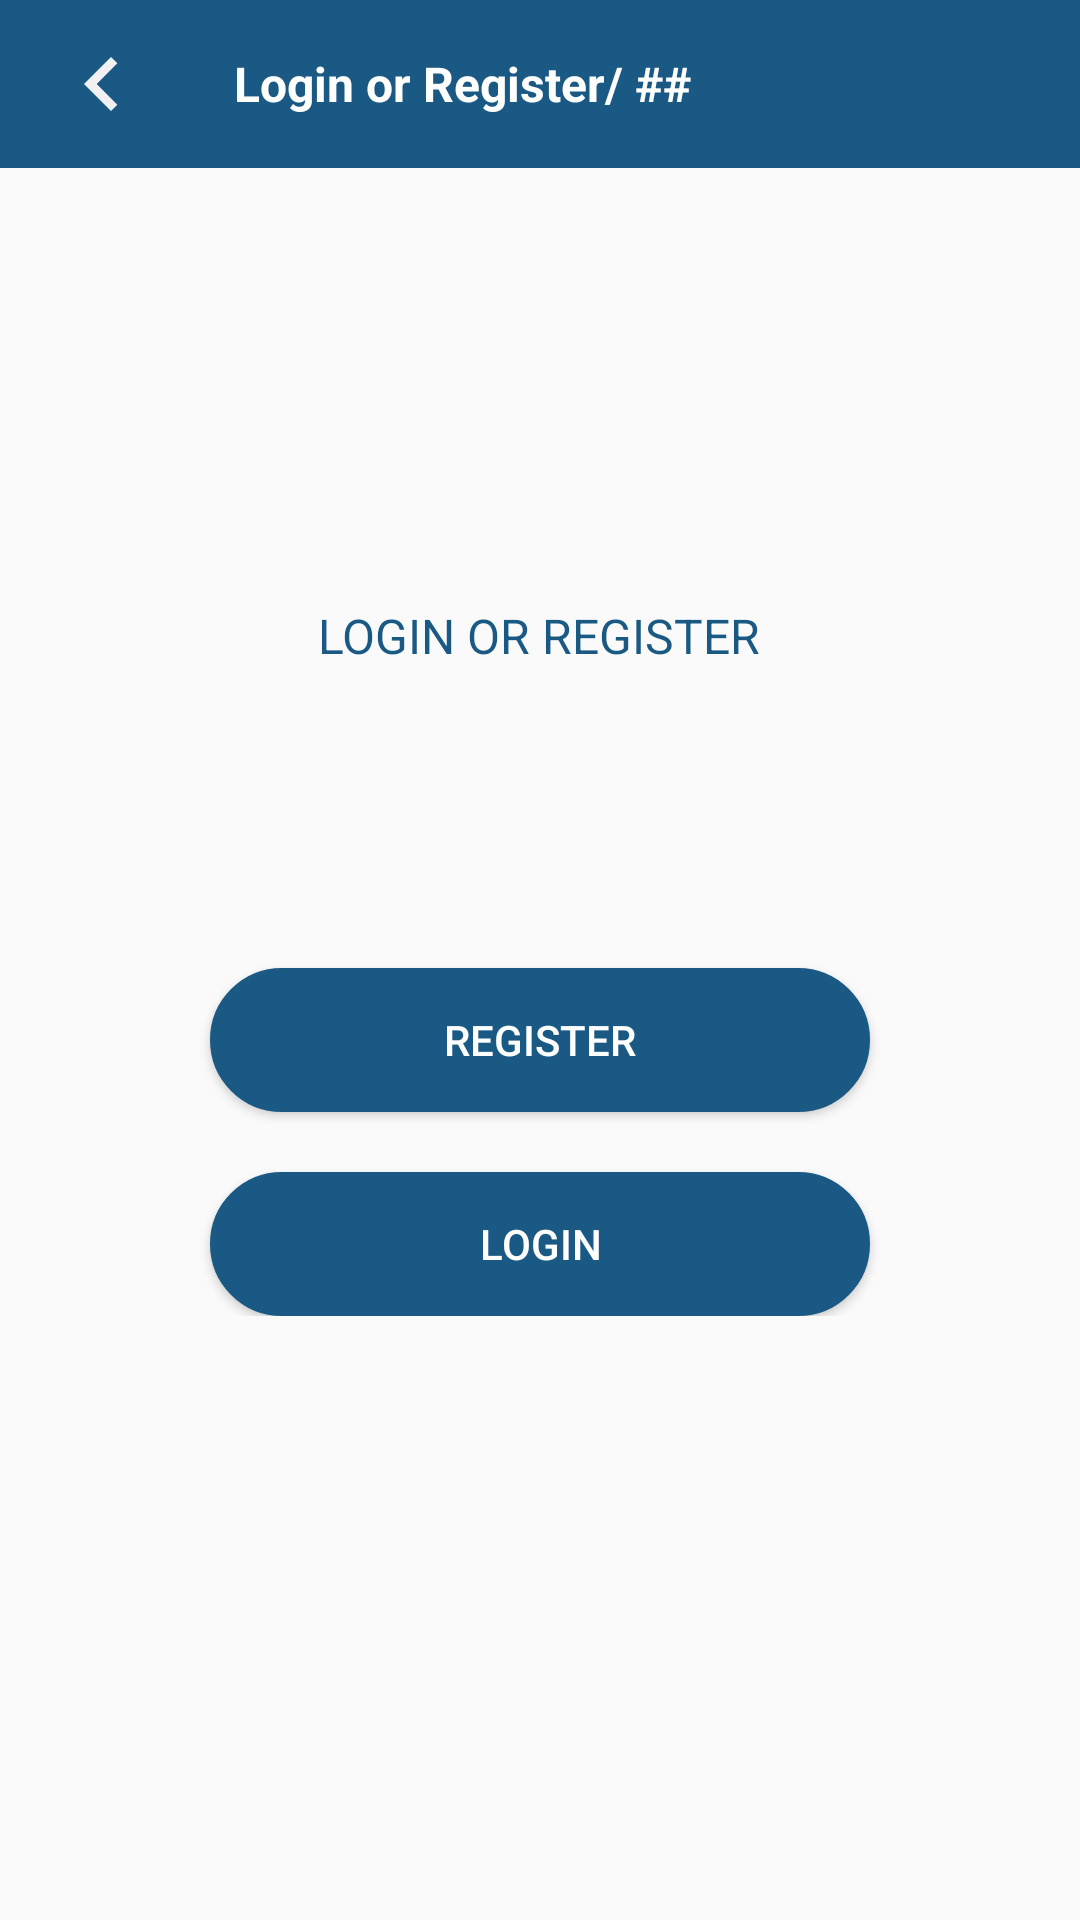

Named icons in this screenshot (1080 × 1920) and their bounding boxes, box=[x1, y1, x2, y2]:
navigate before: box=[84, 57, 118, 111]
